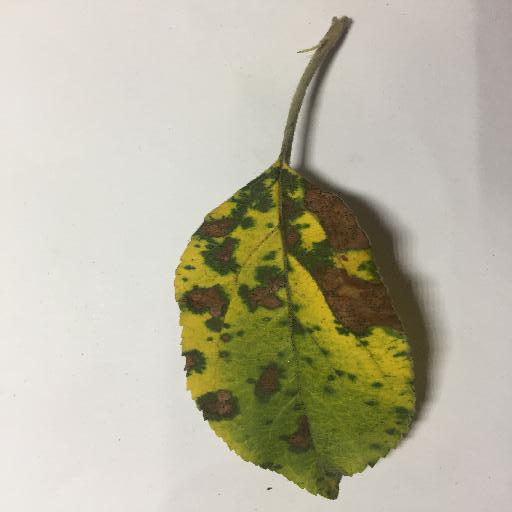Brown_Spot: (293, 186, 404, 346), (236, 283, 295, 315), (204, 212, 232, 263), (202, 384, 238, 423), (256, 368, 281, 403), (188, 289, 219, 316), (179, 345, 202, 373), (289, 426, 313, 451)
